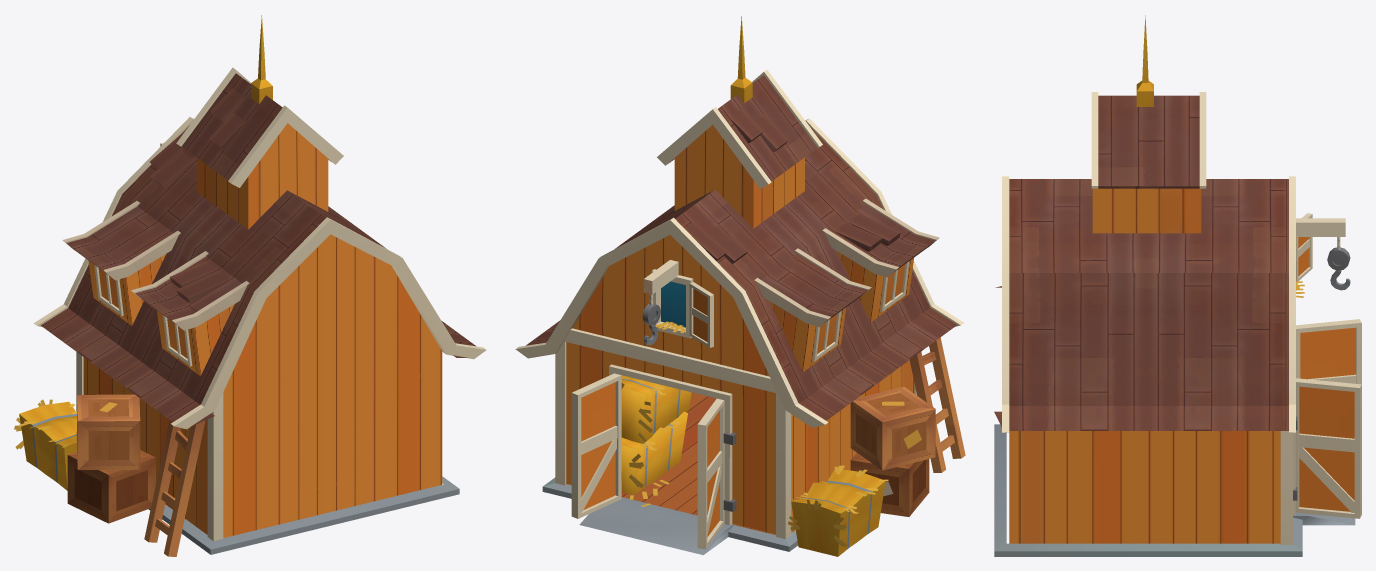
File: BuildingSkin-BarnClassic2.fbx
3 renders of one model, left to right at view 1: azimuth 30°, elevation 25°; view 2: azimuth 150°, elevation 25°; view 3: azimuth 270°, elevation 25°, orthographic. The views are drawn at different scales.
Parts seen in each view (by area): view 1: B_Classic_Barn_Lvl1; view 2: B_Classic_Barn_Lvl1; view 3: B_Classic_Barn_Lvl1.
Part boxes in pixels (x1=…): B_Classic_Barn_Lvl1: x1=14, y1=15, x2=486, y2=556; B_Classic_Barn_Lvl1: x1=515, y1=16, x2=965, y2=556; B_Classic_Barn_Lvl1: x1=994, y1=15, x2=1361, y2=556.
Bounding box in the file's own units: 7.3 × 9.22 × 6.41.
